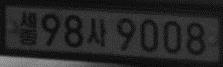0: (139, 17, 159, 53), (162, 19, 182, 54)
8: (63, 13, 85, 48), (185, 20, 206, 56)
9: (40, 12, 61, 47), (116, 16, 137, 51)
사: (85, 16, 108, 48)
세종_V: (18, 9, 39, 47)
